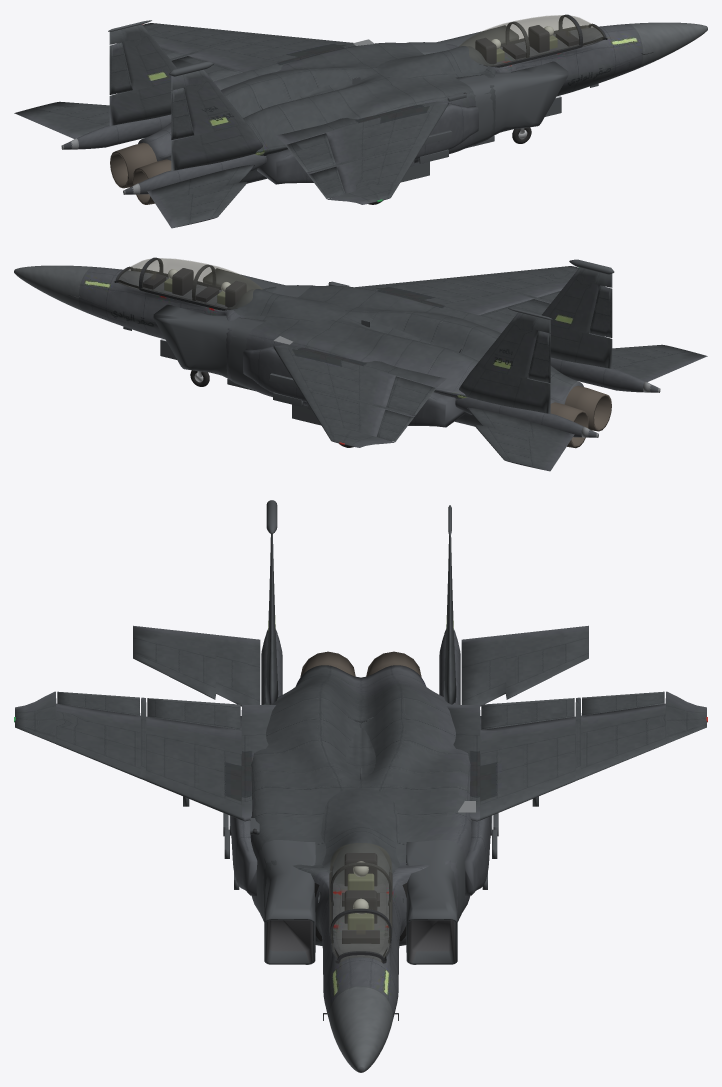
The picture shows the model from 3 angles, top to bottom: view 1: azimuth 30°, elevation 25°; view 2: azimuth 150°, elevation 25°; view 3: azimuth 270°, elevation 25°; orthographic projection. The views are drawn at different scales.
Visible parts, largest first — view 1: fuselage, wing_r, wing_l, fin_r, intake_r, fin_l, canopy, stab_r, cft_r, dorsal, stab_l, boom_l (+14 smaller); view 2: fuselage, wing_l, wing_r, fin_l, intake_l, fin_r, canopy, stab_l, cft_l, dorsal, stab_r, boom_r (+14 smaller); view 3: fuselage, wing_r, wing_l, stab_l, stab_r, dorsal, intake_l, intake_r, canopy, windscreen, flap_l, flap_r (+6 smaller).
Part boxes in pixels (x1=…): fuselage: x1=138, y1=22, x2=707, y2=183; wing_r: x1=275, y1=101, x2=448, y2=204; wing_l: x1=116, y1=23, x2=355, y2=90; fin_r: x1=171, y1=69, x2=262, y2=170; intake_r: x1=456, y1=61, x2=568, y2=145; fin_l: x1=109, y1=24, x2=180, y2=125; canopy: x1=459, y1=15, x2=579, y2=65; stab_r: x1=147, y1=164, x2=254, y2=228; cft_r: x1=257, y1=103, x2=478, y2=184; dorsal: x1=260, y1=46, x2=494, y2=109; stab_l: x1=14, y1=101, x2=109, y2=138; boom_l: x1=63, y1=114, x2=171, y2=149; fuselage: x1=14, y1=265, x2=583, y2=426; wing_l: x1=273, y1=344, x2=446, y2=447; wing_r: x1=355, y1=266, x2=605, y2=333; fin_l: x1=459, y1=312, x2=550, y2=413; intake_l: x1=153, y1=304, x2=265, y2=388; fin_r: x1=541, y1=267, x2=612, y2=368; canopy: x1=142, y1=258, x2=262, y2=308; stab_l: x1=467, y1=407, x2=574, y2=471; cft_l: x1=243, y1=346, x2=464, y2=427; dorsal: x1=227, y1=289, x2=461, y2=352; stab_r: x1=612, y1=344, x2=707, y2=381; boom_r: x1=550, y1=357, x2=658, y2=392; fuselage: x1=250, y1=665, x2=471, y2=1072; wing_r: x1=15, y1=691, x2=275, y2=821; wing_l: x1=446, y1=691, x2=706, y2=821; stab_l: x1=461, y1=625, x2=588, y2=706; stab_r: x1=133, y1=625, x2=260, y2=706; dorsal: x1=318, y1=717, x2=403, y2=902; intake_l: x1=406, y1=840, x2=465, y2=964; intake_r: x1=256, y1=840, x2=315, y2=964; canopy: x1=329, y1=843, x2=392, y2=927; windscreen: x1=331, y1=912, x2=390, y2=962; flap_l: x1=481, y1=698, x2=574, y2=729; flap_r: x1=147, y1=698, x2=240, y2=729.
Bounding box in the file's own units: 19.35 × 5.69 × 13.09.
34 materials, 18 textured.
